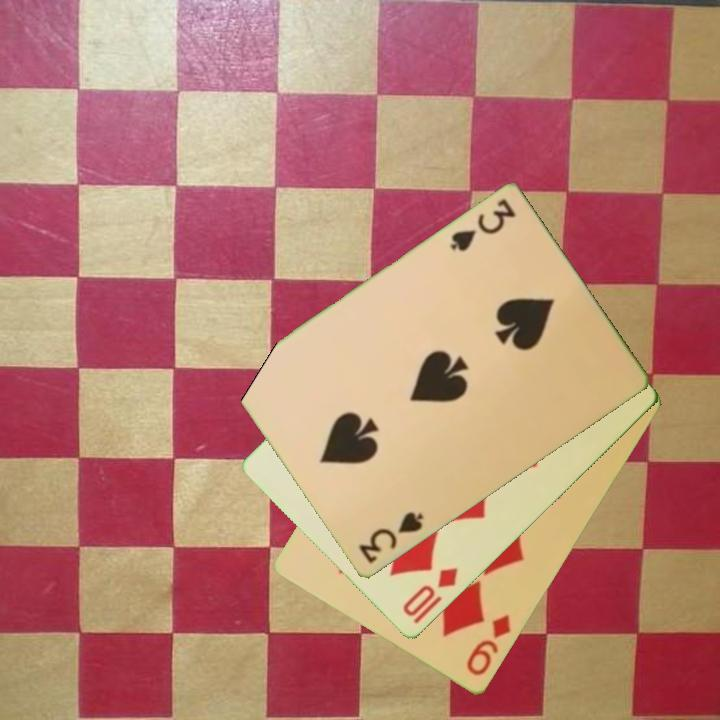10d: (399, 564, 461, 628)
3s: (446, 195, 519, 255), (355, 508, 427, 567)
9d: (463, 611, 514, 680)
